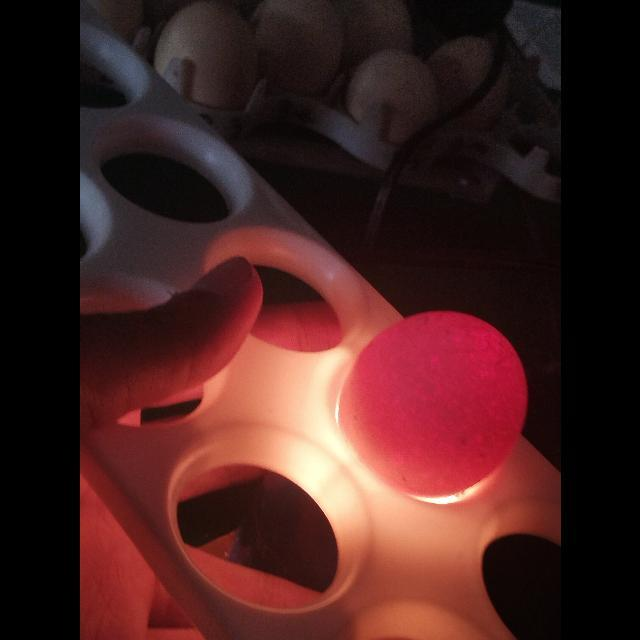Fertile: (336, 308, 528, 492)
